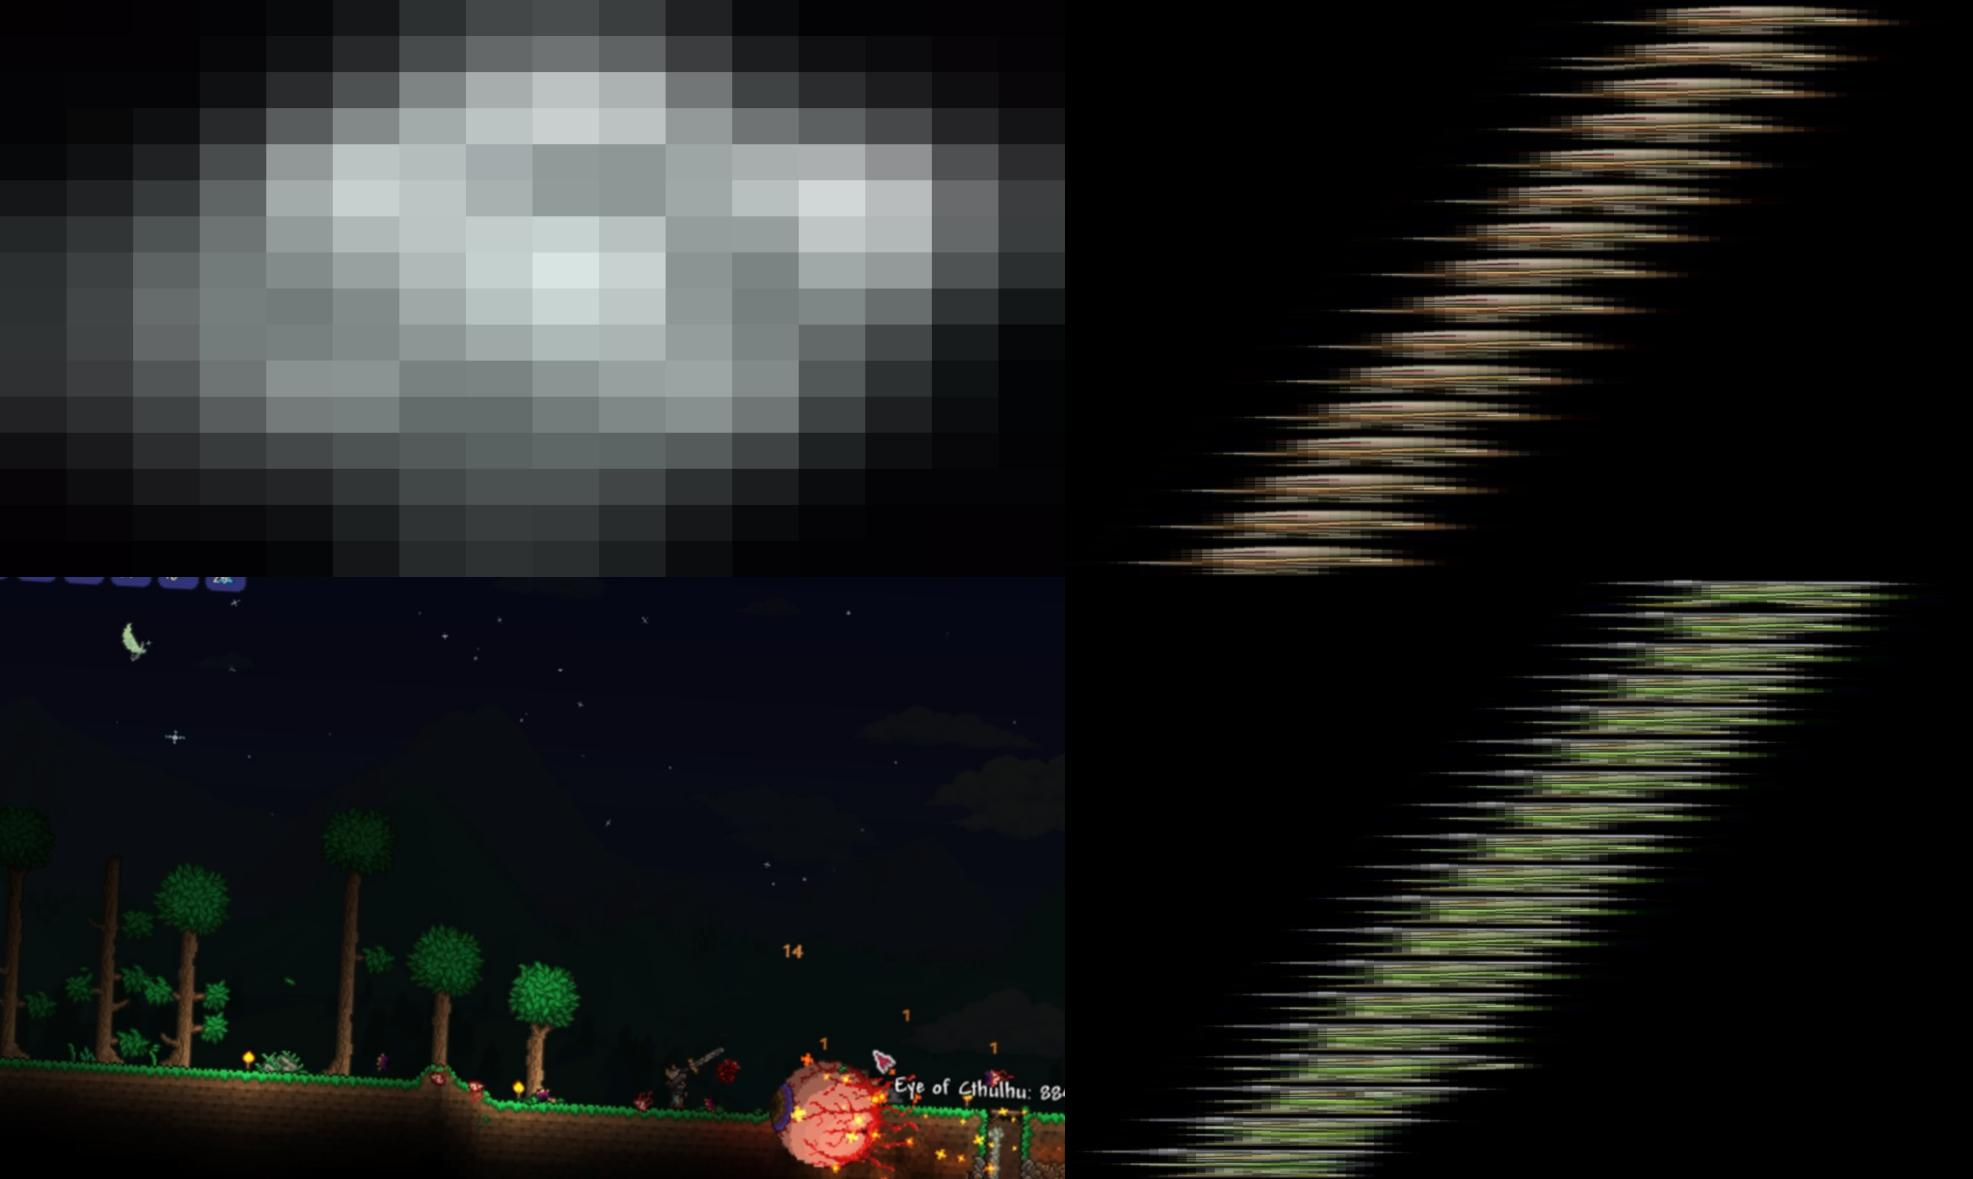eyeC: (763, 1055, 935, 1179)
ore: (0, 0, 1065, 577)
zombie: (1539, 1, 1952, 38), (1552, 578, 1973, 609)
